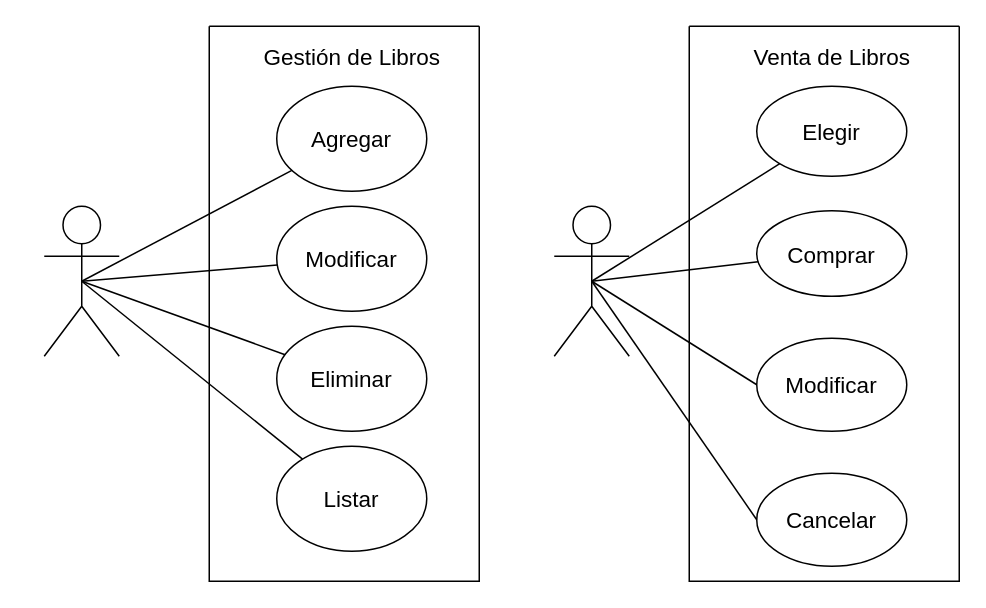
The diagram is 986 pixels wide and 608 high, and some of its shapes have lost their labels. Each missing label, with the centre of its shape:
"Administrador" goes at [81,280].
"Cliente" goes at [591,280].
